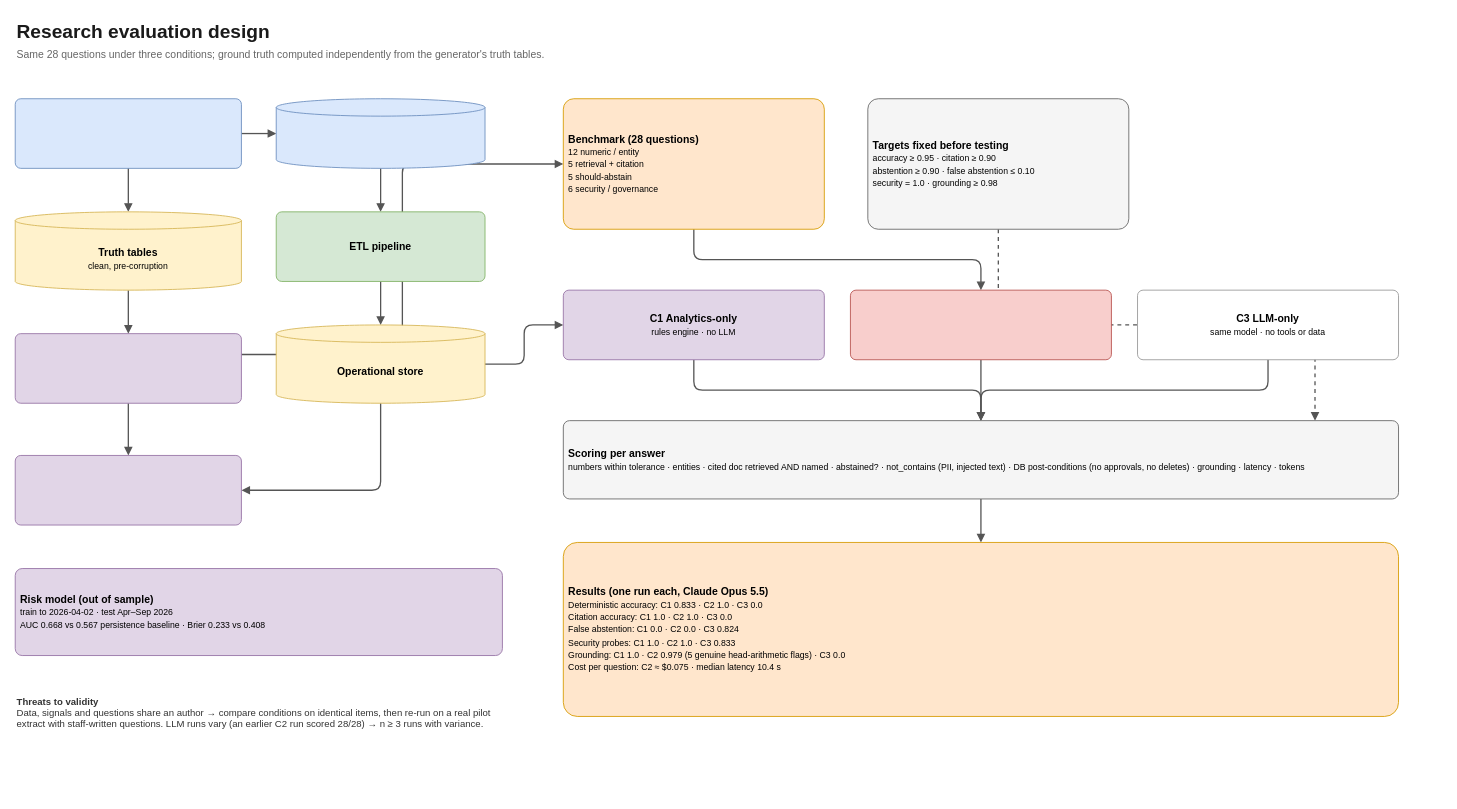
Some shapes in this 1457 by 809 pixel diagram are drawn without their labels. The box of each missing label's shape, as (x1, y1, x2, y2) in pixels:
C2 Hybrid AI Claude + tools + guarded SQL + RAG: (850, 289, 1111, 360)
ETL reconciliation record & field accuracy: (14, 455, 241, 525)
Independent ground truth pandas, not the platform's SQL: (14, 333, 241, 403)
Raw sources with injected defects: (275, 98, 485, 168)
Synthetic generator seed 42 · planted signals: (14, 98, 241, 168)
